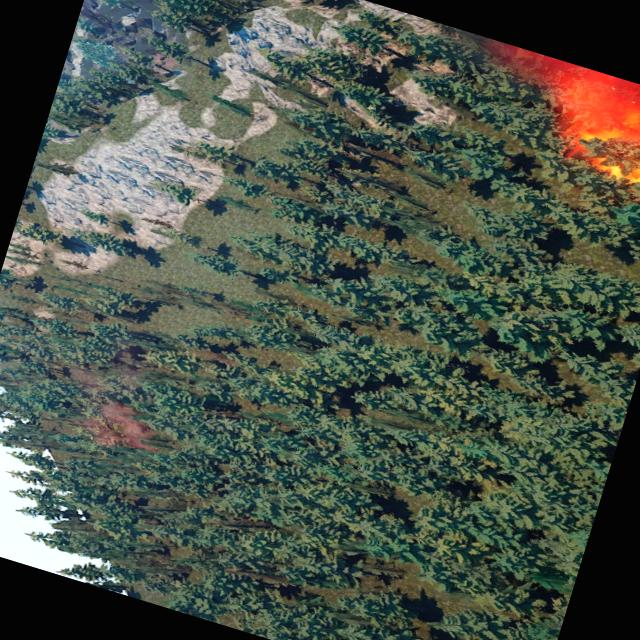fire: (565, 89, 640, 199)
smoke: (433, 27, 640, 181), (76, 394, 158, 458)
